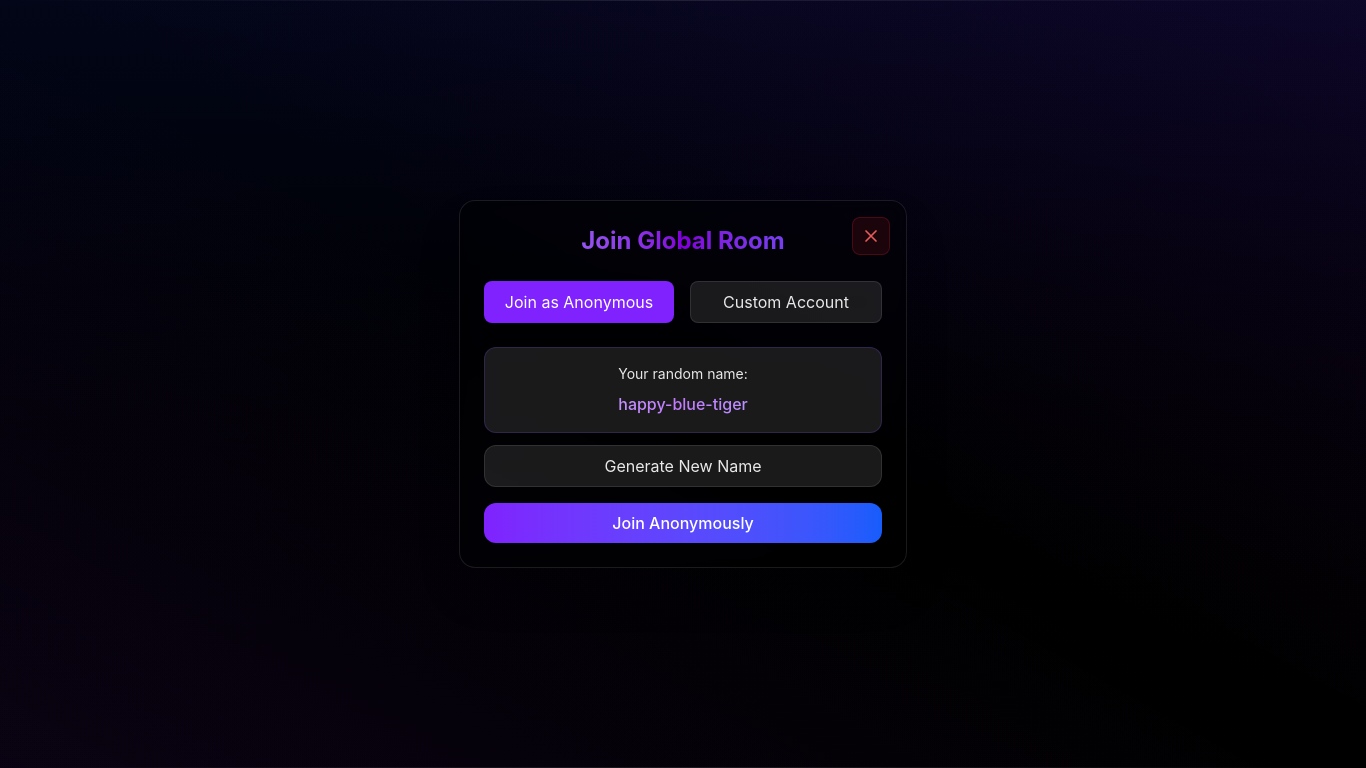
Test: JoinRoom › registered (custom account) flow › only accepts lowercased alphanumeric usernames
Click the button "Custom Account" at point(786, 302), box [690,281,882,323]
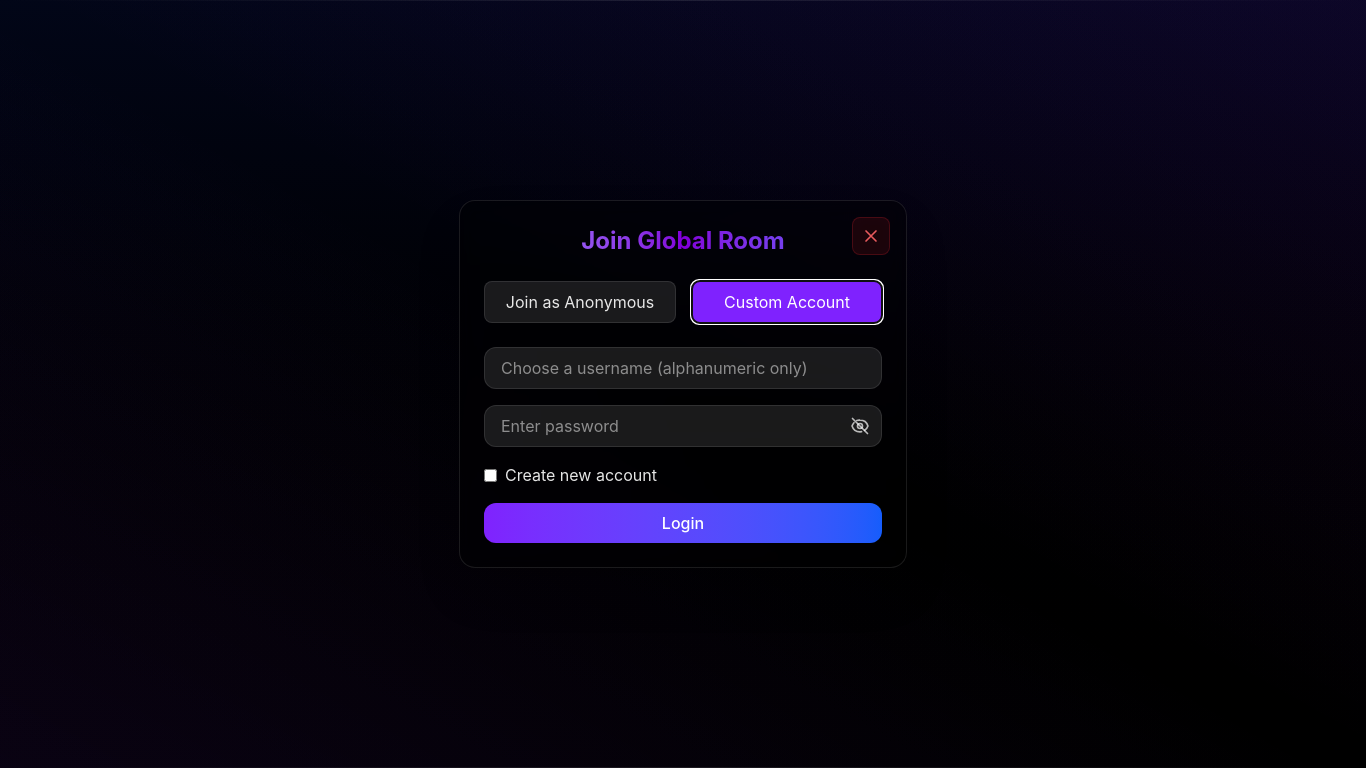
Type "Foo_Bar!99" into the field with placeholder "Choose a username (alphanumeric only)" at point(683, 368), box [484,347,882,389]
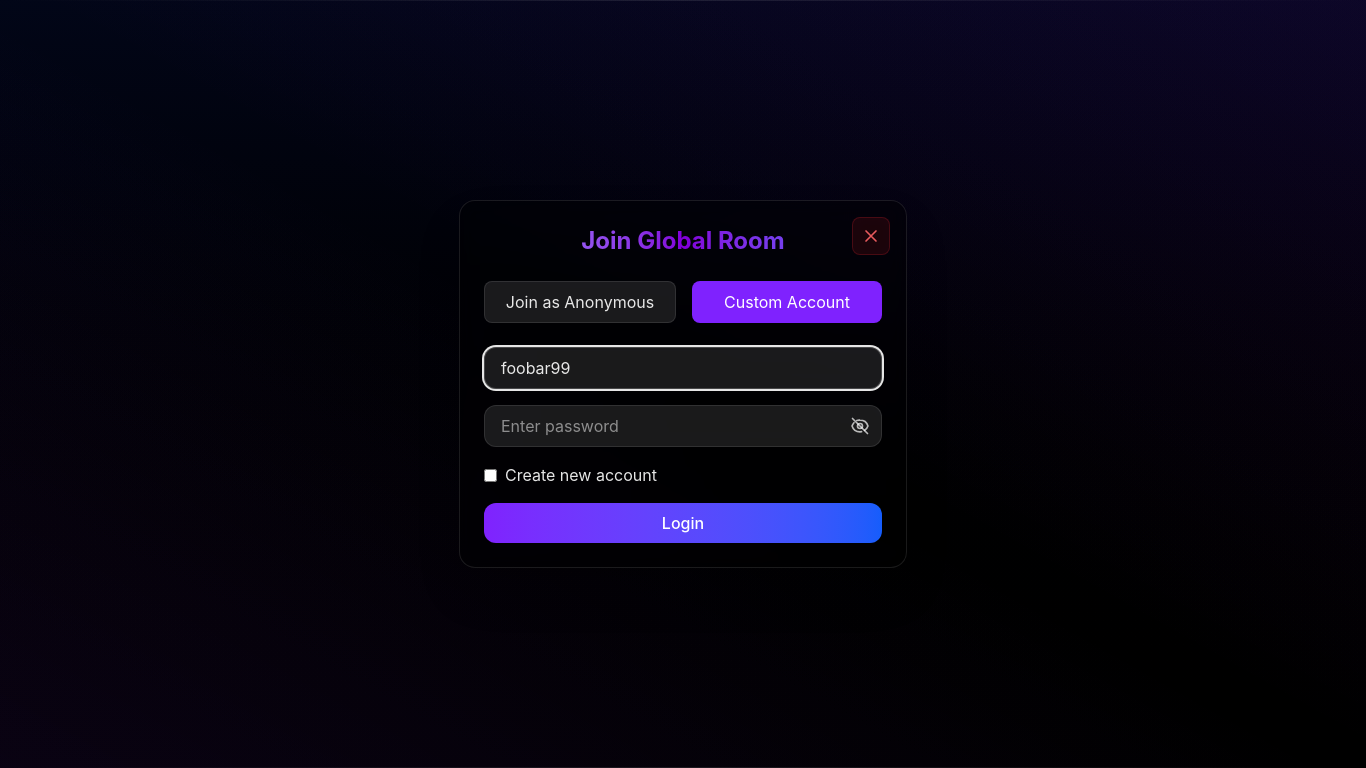
Expected: the field with placeholder "Choose a username (alphanumeric only)" holds "foobar99", [484,347,882,389]
